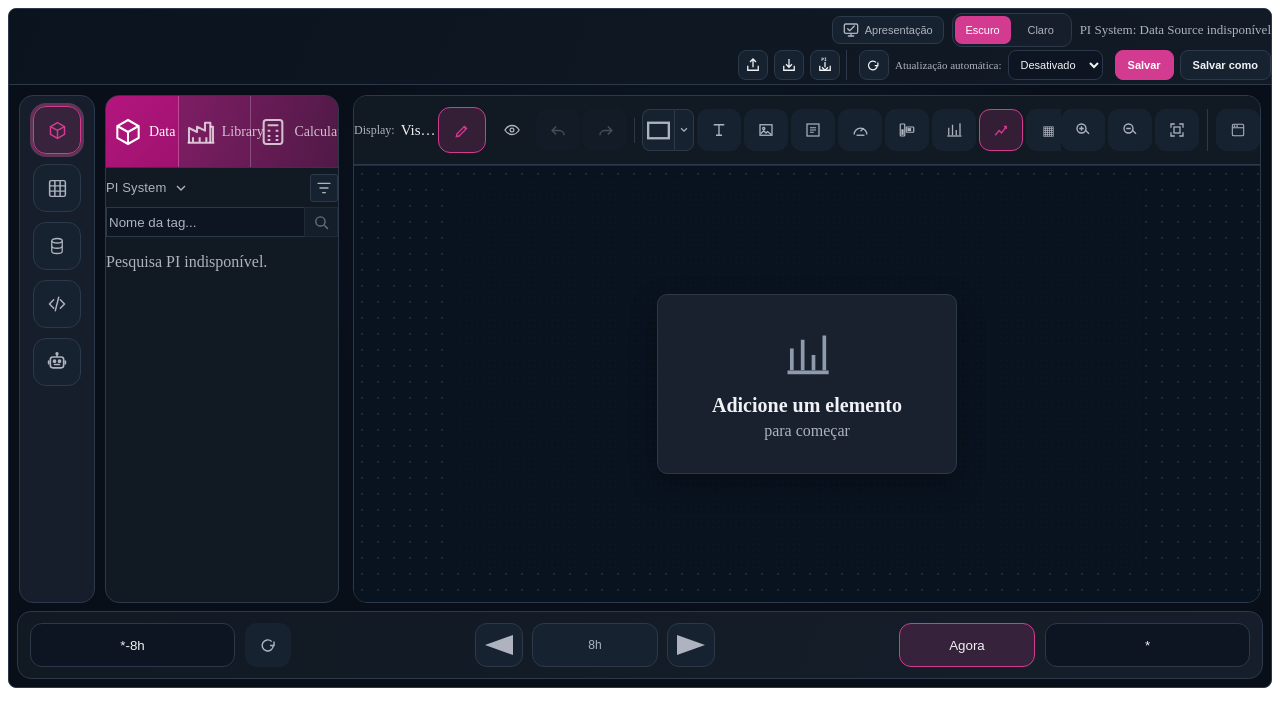
Test case: App › mantém o botão do PiChat visível e abre o popover
Click the button with test id "pims-vision-pichat-tab".
click(57, 362)  # box [33,338,81,386]
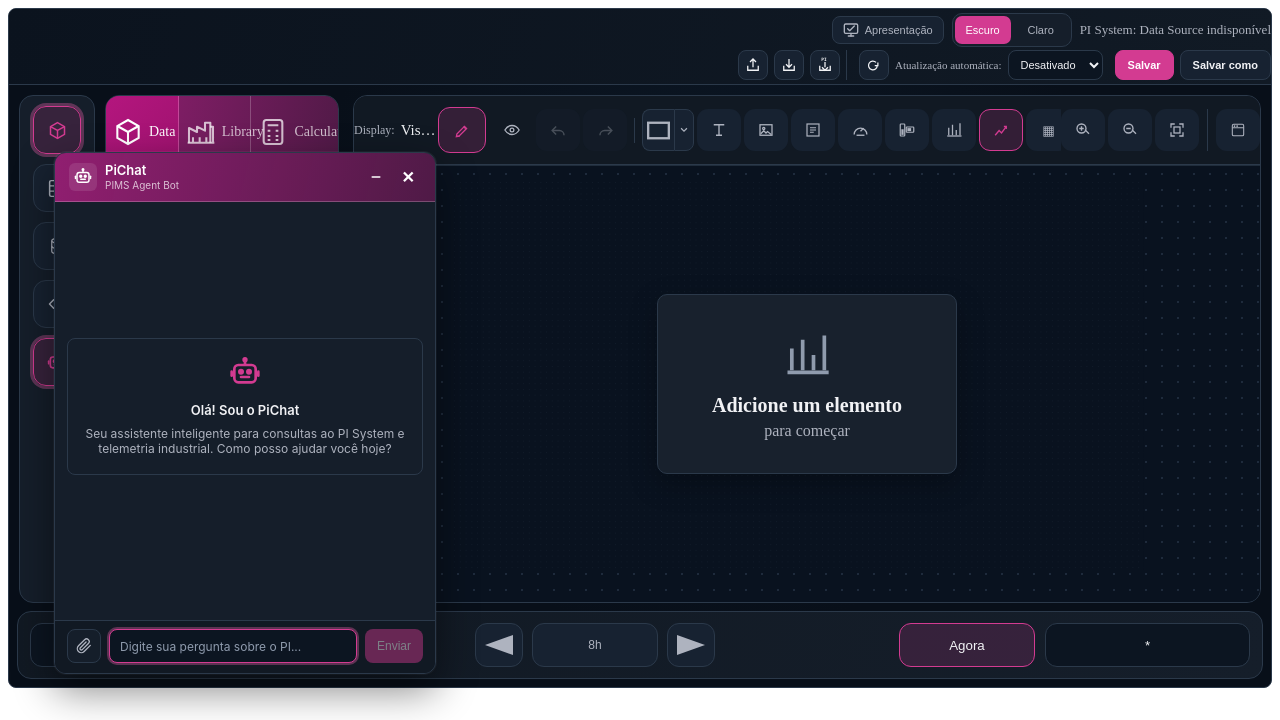
Expected: the dialog with test id "pichat-popover" is shown, [54,152,436,674]
Click the button with test id "pichat-close-button".
click(408, 177)  # box [395,164,421,190]
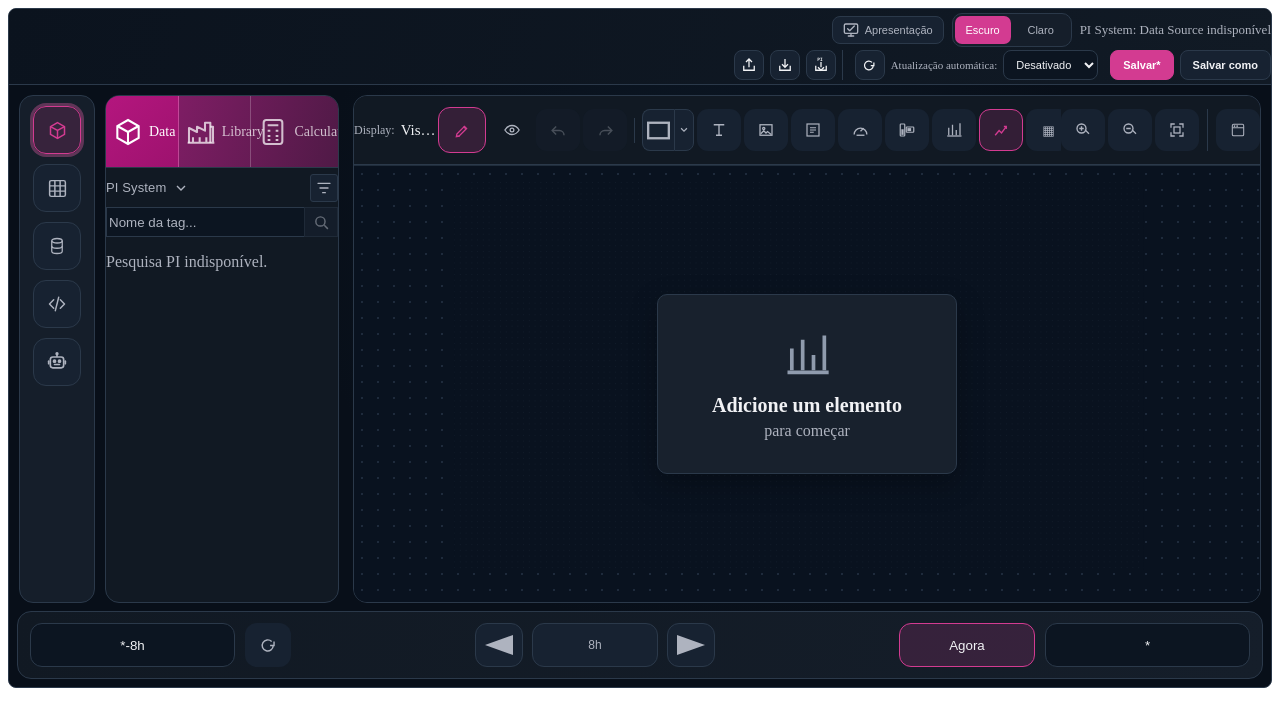
Expected: the dialog with test id "pichat-popover" is gone
